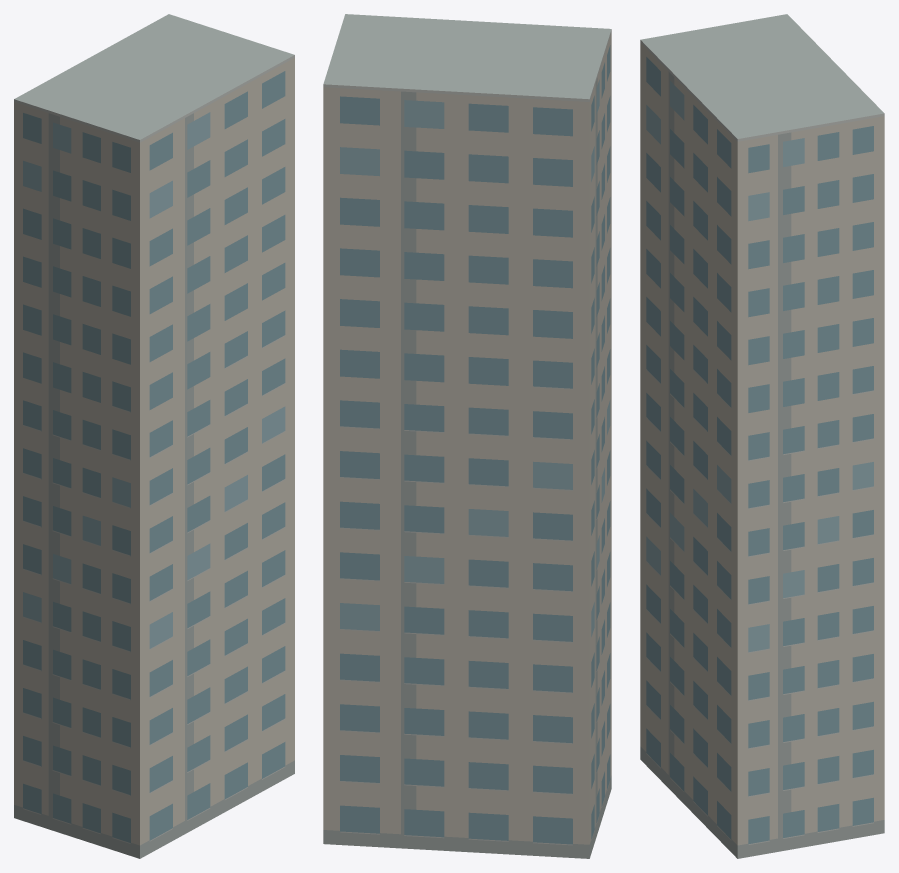
The model's file is residential-152cbd57-cfaf-4686-9917-912451e4041f.glb.
3 views of the same model, side by side, from view 1: azimuth 30°, elevation 25°; view 2: azimuth 150°, elevation 25°; view 3: azimuth 270°, elevation 25° (orthographic). The views are drawn at different scales.
Parts seen in each view (by area): view 1: residential-152cbd57-cfaf-4686-9917-912451e4041f.tmp; view 2: residential-152cbd57-cfaf-4686-9917-912451e4041f.tmp; view 3: residential-152cbd57-cfaf-4686-9917-912451e4041f.tmp.
Boxes of the visible parts, <box> form: residential-152cbd57-cfaf-4686-9917-912451e4041f.tmp: <box>14,14,294,858</box>; residential-152cbd57-cfaf-4686-9917-912451e4041f.tmp: <box>323,14,611,858</box>; residential-152cbd57-cfaf-4686-9917-912451e4041f.tmp: <box>640,14,884,858</box>.
Bounding box in the file's own units: 24.24 × 65 × 19.99.
